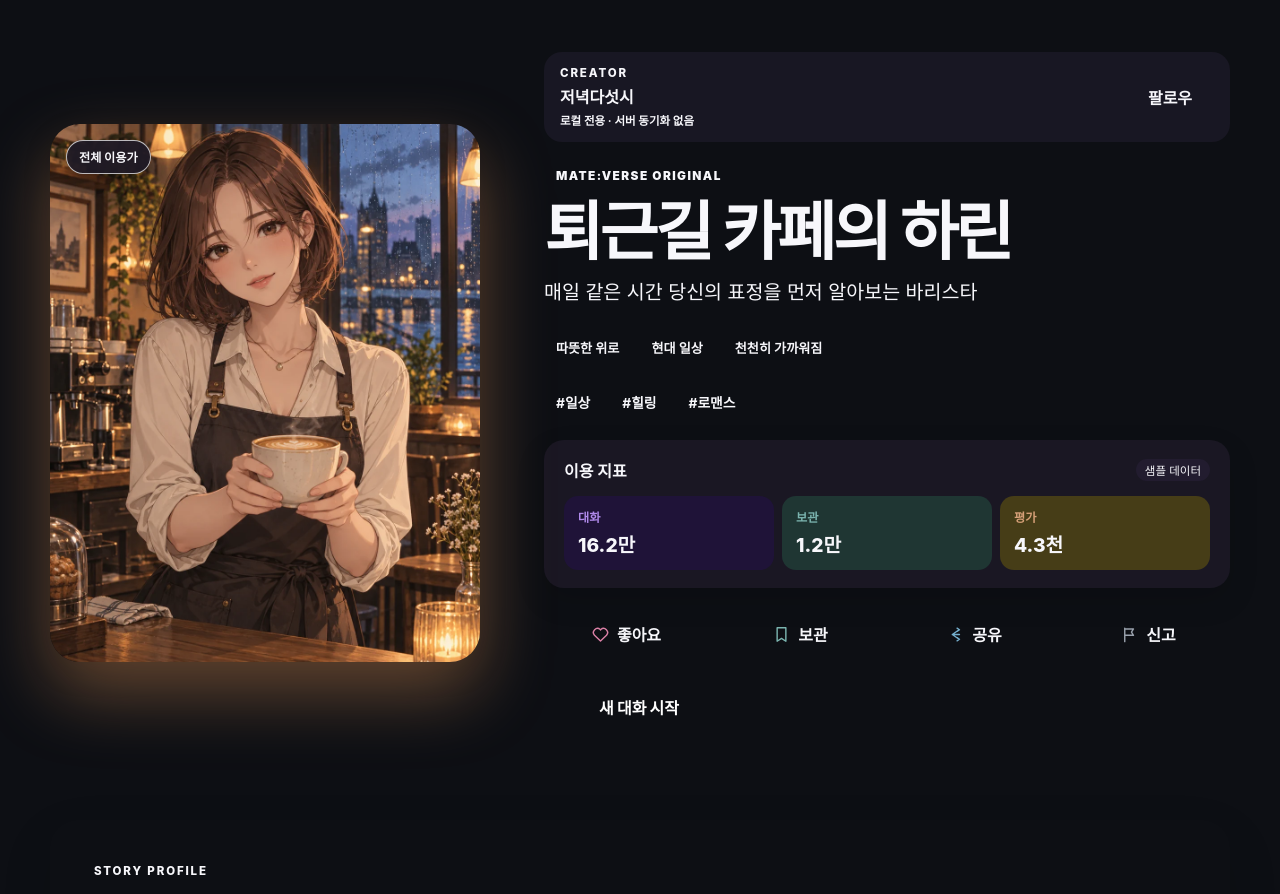
Scenario: 캐릭터 상세 대화 시작 › 클립보드 거부 오류를 안전하게 안내한다
The image size is (1280, 894).
Click the button with aria-label "퇴근길 카페의 하린 공유": [974, 634] box [892,610,1056,658]
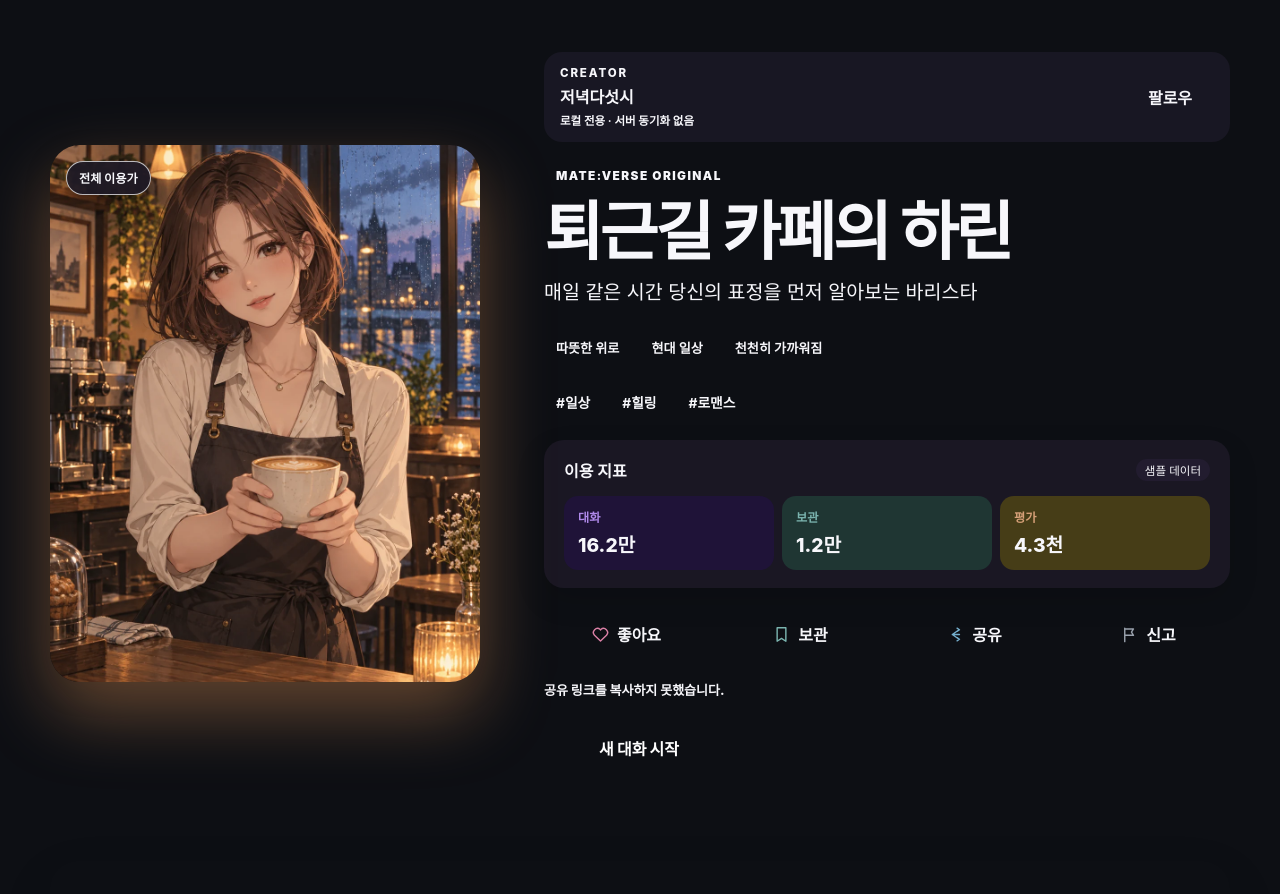
Now the message reads "공유 링크를 복사하지 못했습니다.", box [544,682,725,698]
